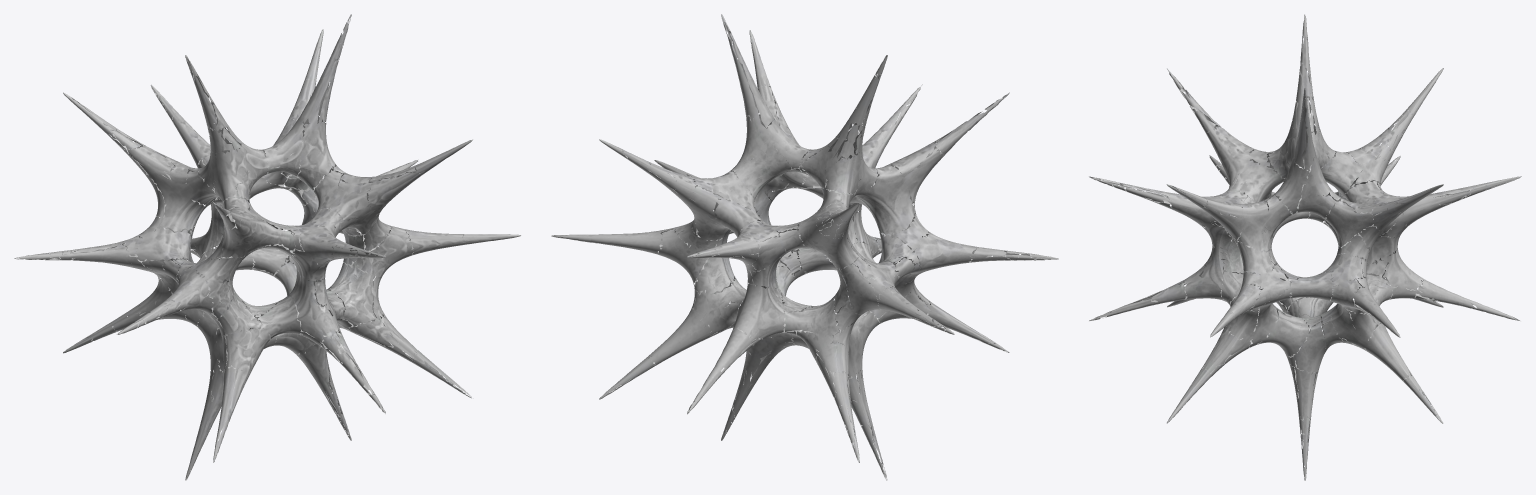
File: starburst.glb
3 renders of one model, left to right at view 1: azimuth 30°, elevation 25°; view 2: azimuth 150°, elevation 25°; view 3: azimuth 270°, elevation 25°, orthographic. The views are drawn at different scales.
Bounding box in the file's own units: 1.89 × 1.9 × 1.9.
Materials: 1 (1 with a texture image).
